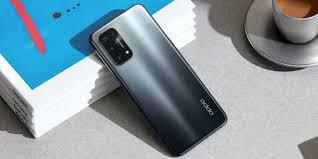Smartphone: (94, 0, 231, 144)
